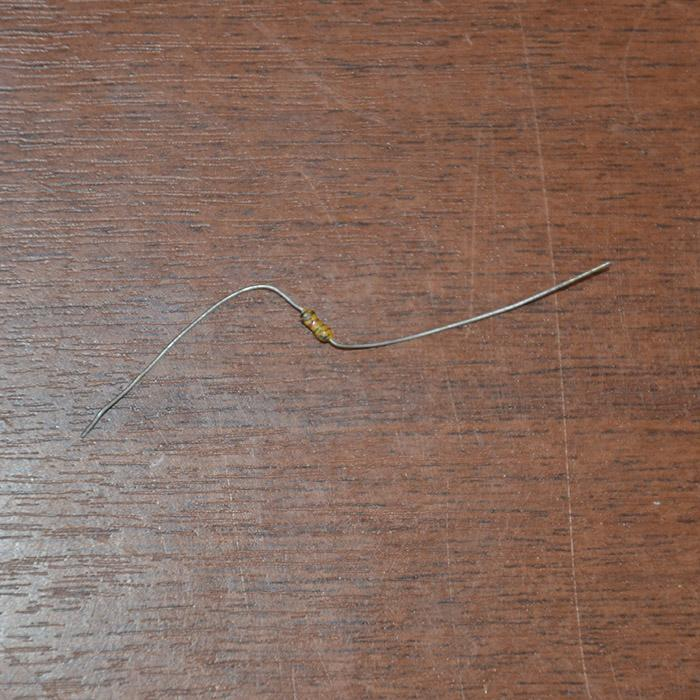resistor: (299, 308, 333, 343)
